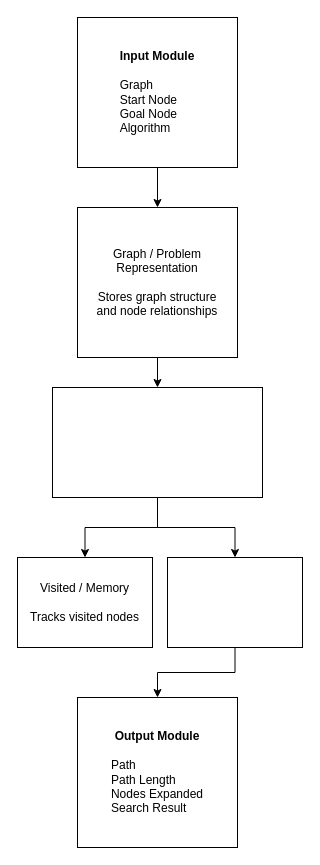
Image size: 320x865. Some labels were removed from this diagram. Each missing label, with the centre of its shape:
"Goal Test & Path Handling Checks goal and maintains path" belongs at pixel 234 602.
"Search Engine BFS / DFS" belongs at pixel 157 442.
